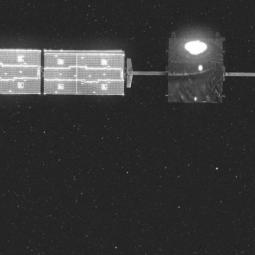smart_1: (11, 31, 248, 119)
